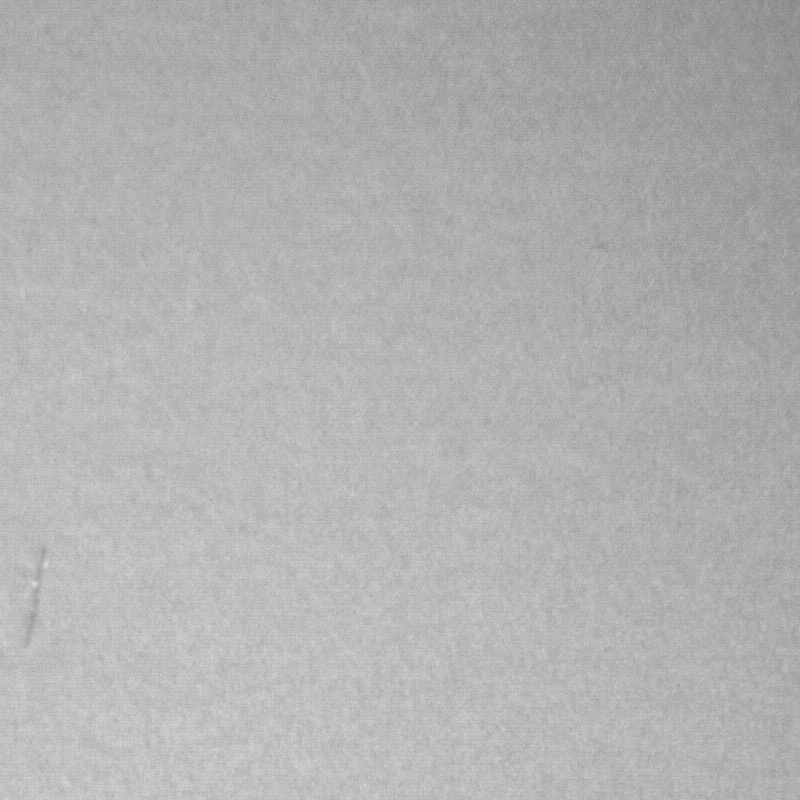defect: (16, 550, 40, 652)
